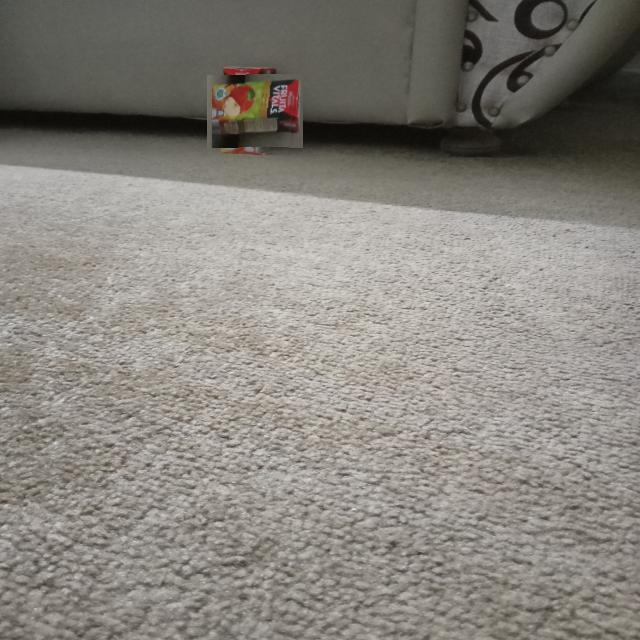Plastic: (212, 69, 297, 154)
